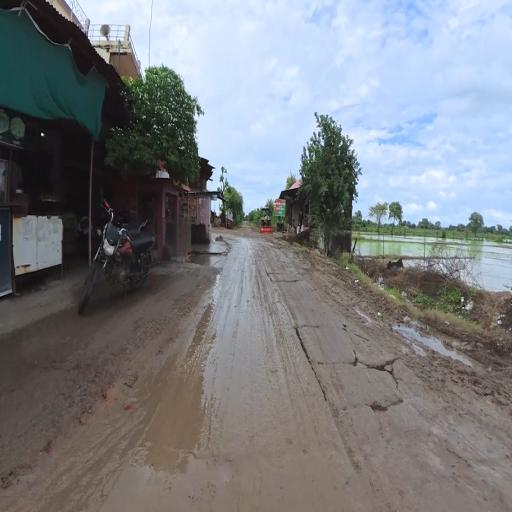longitudinal_crack: (283, 278, 419, 436)
